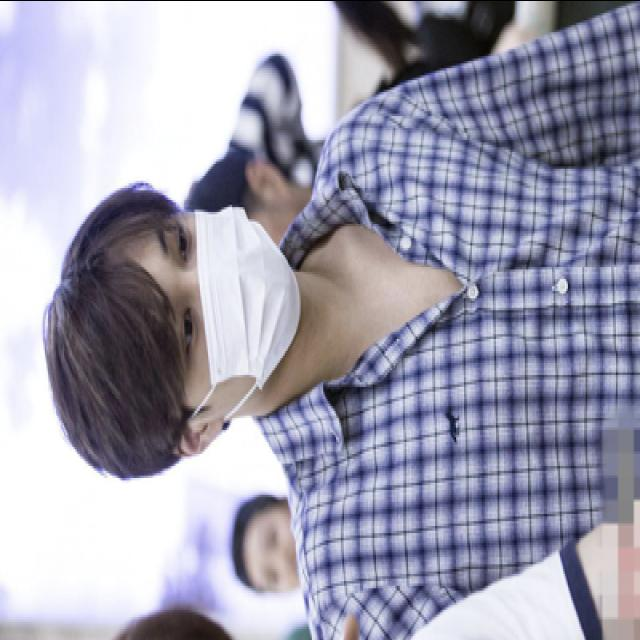mask: (150, 208, 294, 424)
